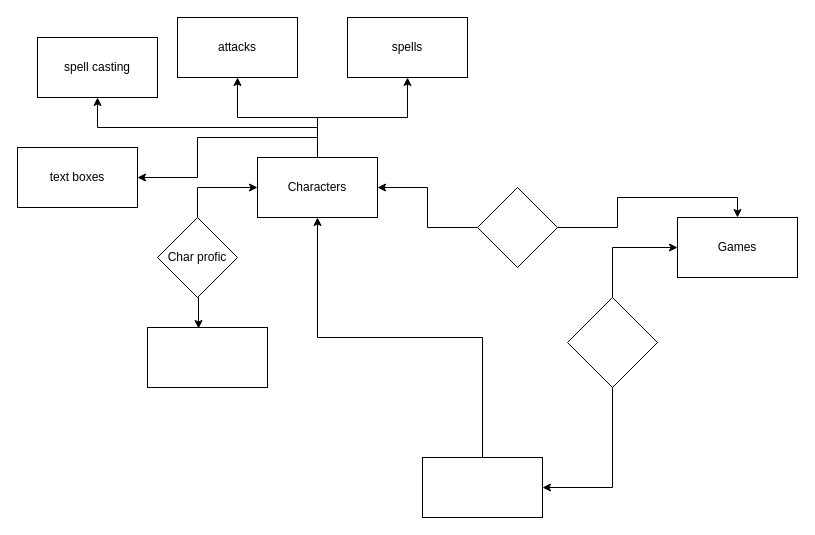
Some shapes in this 815 by 535 pixel diagram are drawn without their labels. Each missing label, with the centre of its shape:
Game Chars: (517,227)
Game Users def role: (612,342)
Proficaincies: (207,357)
Users: (482,487)
